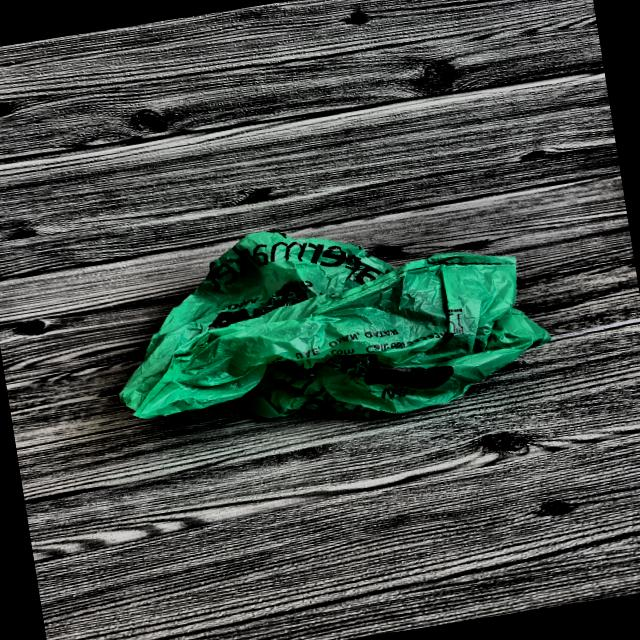plastic bag: (92, 172, 570, 470)
